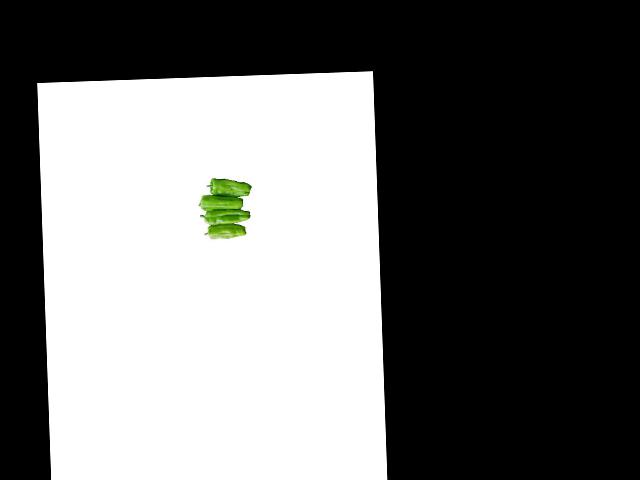bell_pepper: (203, 177, 255, 198)
